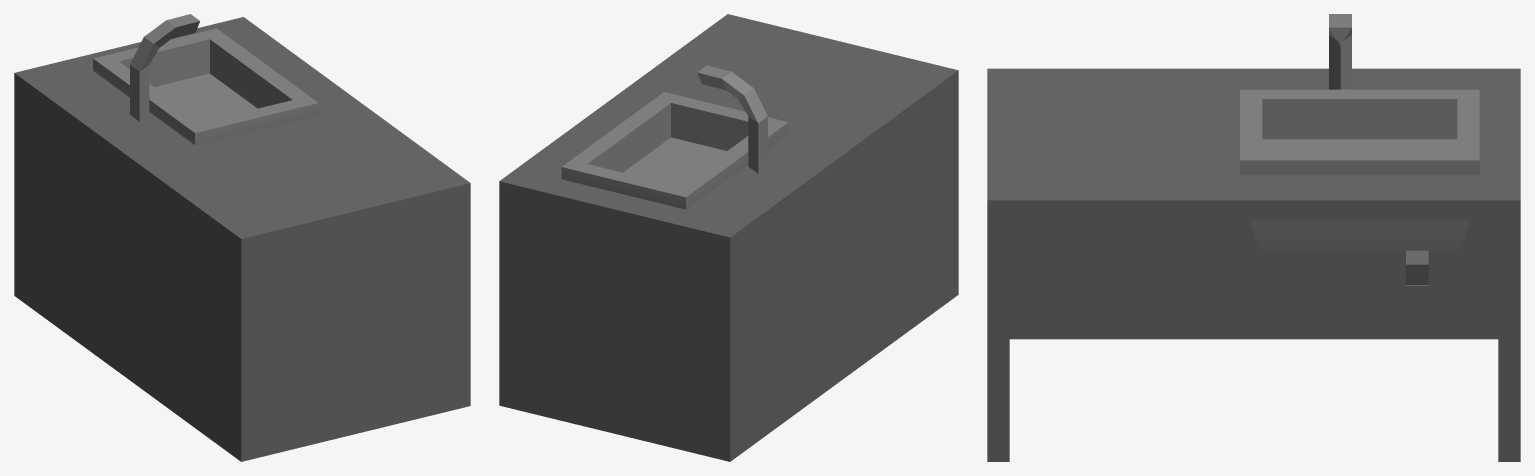
Rendered from Table_Sink.fbx.
The picture shows the model from 3 angles, left to right: view 1: azimuth 30°, elevation 25°; view 2: azimuth 150°, elevation 25°; view 3: azimuth 270°, elevation 25°; orthographic projection. The views are drawn at different scales.
Visible parts, largest first — view 1: pCylinder6; view 2: pCylinder6; view 3: pCylinder6.
Part boxes in pixels (bbox=[...]): pCylinder6: bbox=[14, 14, 470, 461]; pCylinder6: bbox=[499, 14, 958, 461]; pCylinder6: bbox=[987, 14, 1520, 461].
Size of the model in its own units: 70 by 90.07 by 120.
